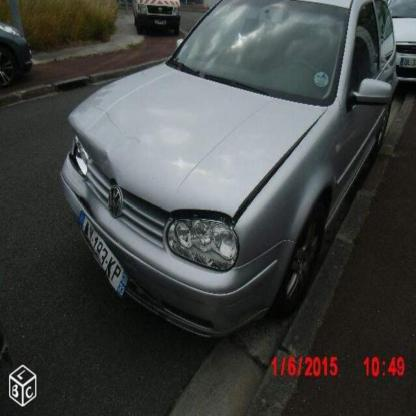door: (328, 100, 386, 222)
front_bumper: (60, 150, 296, 338)
headlamp: (167, 219, 238, 271), (74, 136, 89, 178)
hood: (70, 62, 330, 219)
